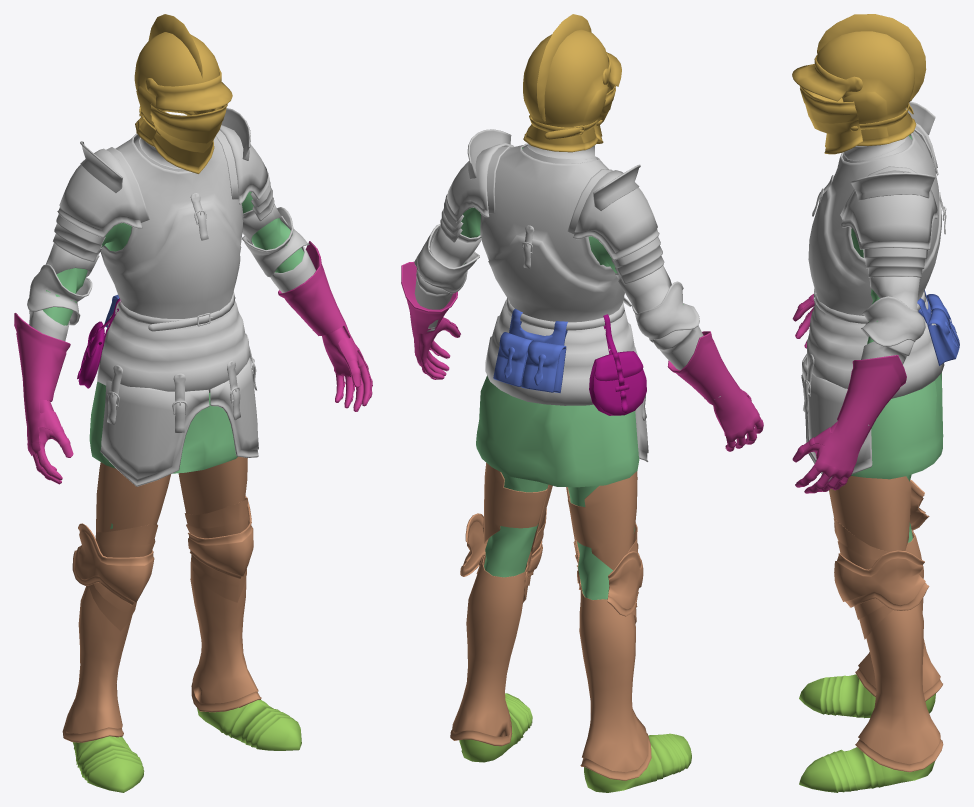
File: ARMATURA.obj
3 renders of one model, left to right at view 1: azimuth 30°, elevation 25°; view 2: azimuth 150°, elevation 25°; view 3: azimuth 270°, elevation 25°, orthographic.
Bounding box in the file's own units: 6.63 × 13.76 × 2.87.
